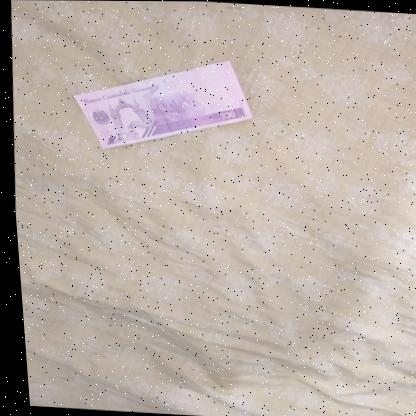one_hundred-back-vef: (65, 49, 256, 157)
